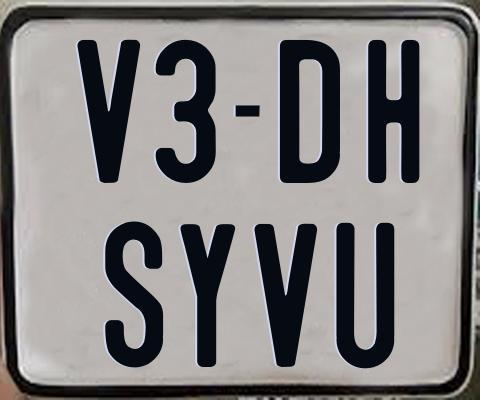3: (155, 40, 219, 188)
D: (280, 38, 342, 183)
H: (368, 37, 422, 185)
S: (103, 219, 162, 372)
U: (333, 223, 392, 374)
V: (251, 222, 318, 371), (74, 39, 138, 186)
Y: (180, 222, 241, 368)
